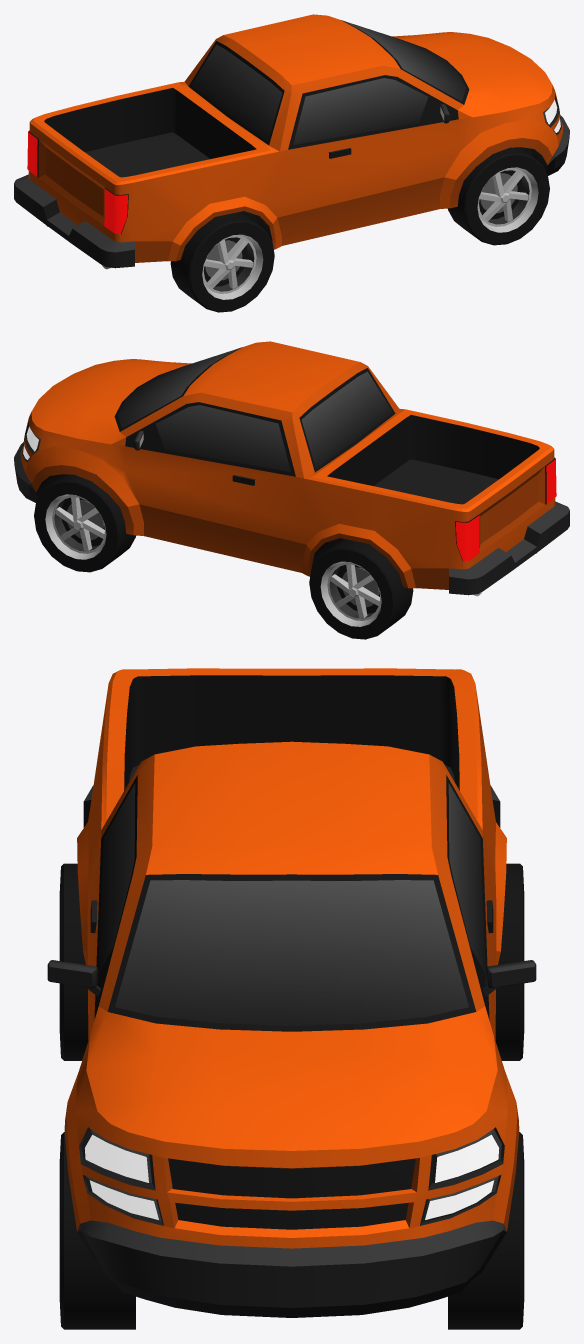
File: Car_035.glb
3 views of the same model, one above another, from view 1: azimuth 30°, elevation 25°; view 2: azimuth 150°, elevation 25°; view 3: azimuth 270°, elevation 25° (orthographic). The views are drawn at different scales.
Visible parts, largest first — view 1: Car_035, wheel_3_Car_035_Wheel_2R, wheel_1_Car_035_Wheel_1R; view 2: Car_035, wheel_2_Car_035_Wheel_2L, wheel_0_Car_035_Wheel_1L; view 3: Car_035, wheel_1_Car_035_Wheel_1R, wheel_0_Car_035_Wheel_1L, wheel_2_Car_035_Wheel_2L, wheel_3_Car_035_Wheel_2R.
Boxes of the visible parts, x1,y1,x2,y2 form: Car_035: [14, 14, 569, 269]; wheel_3_Car_035_Wheel_2R: [170, 212, 274, 312]; wheel_1_Car_035_Wheel_1R: [448, 147, 549, 245]; Car_035: [14, 341, 569, 596]; wheel_2_Car_035_Wheel_2L: [309, 539, 413, 639]; wheel_0_Car_035_Wheel_1L: [34, 474, 135, 572]; Car_035: [47, 668, 536, 1317]; wheel_1_Car_035_Wheel_1R: [59, 1132, 135, 1329]; wheel_0_Car_035_Wheel_1L: [448, 1132, 524, 1329]; wheel_2_Car_035_Wheel_2L: [495, 863, 524, 1060]; wheel_3_Car_035_Wheel_2R: [59, 863, 88, 1060].
Bounding box in the file's own units: 4.84 × 1.83 × 2.09.
2 materials, 2 textured.
